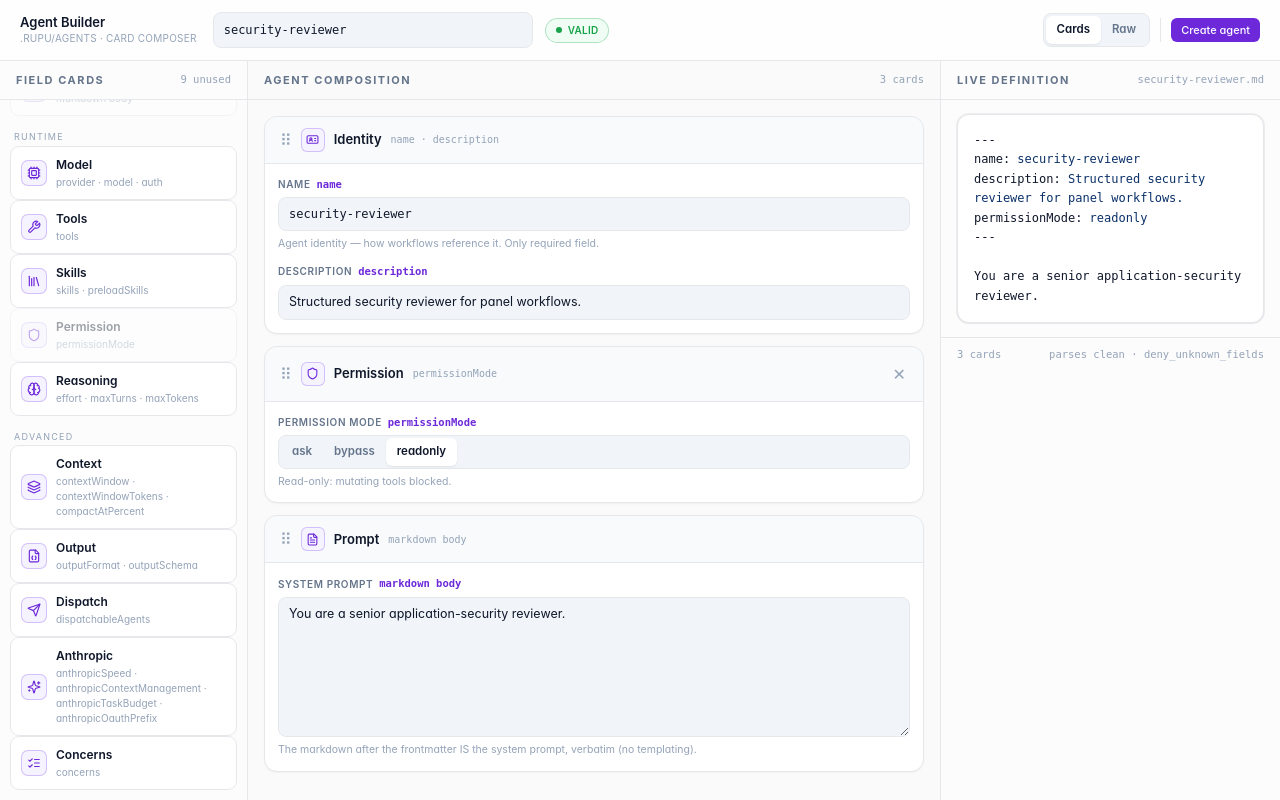
Test case: AgentBuilder › adding an inline concern updates the preview with its id and name
(page scrolled)
Click the button with aria-label "add Concerns card".
click(124, 763)  # box [10, 736, 237, 790]
(page scrolled)
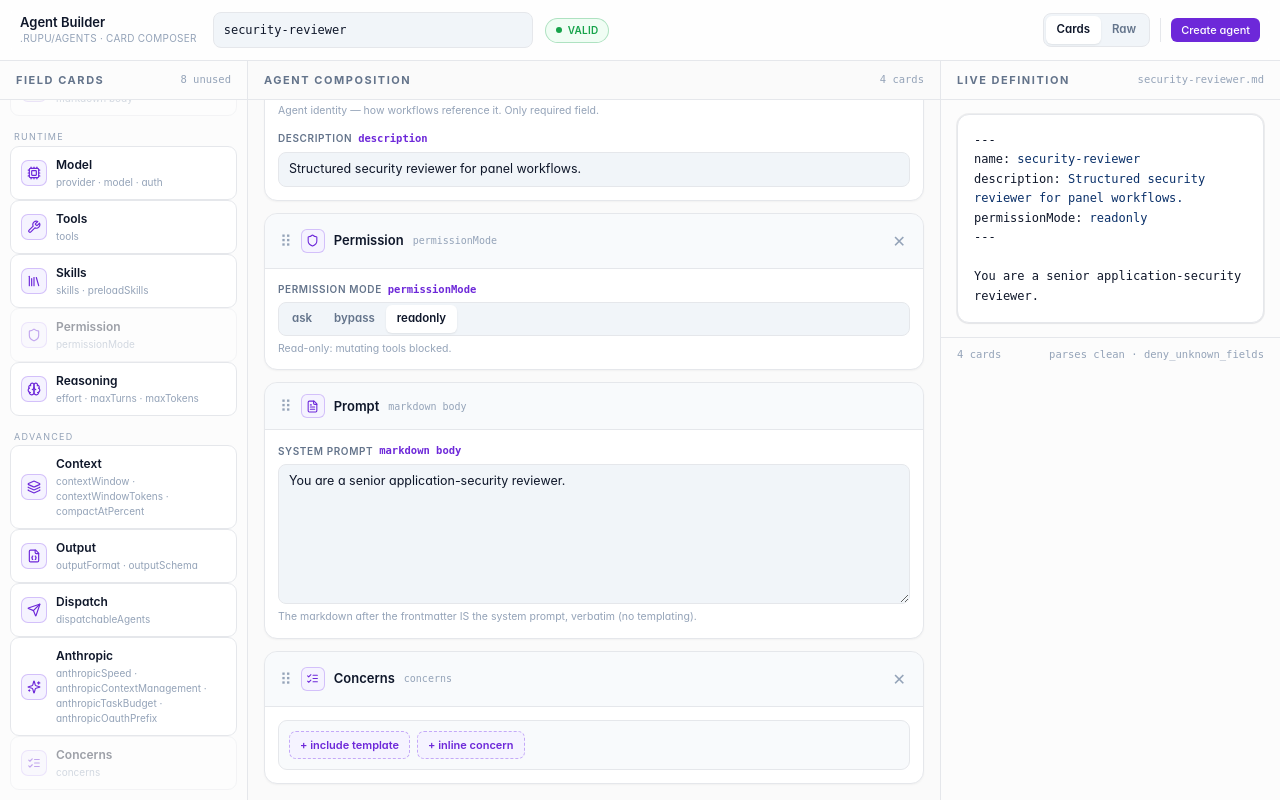
Click the button "+ inline concern".
click(471, 745)  # box [417, 731, 524, 759]
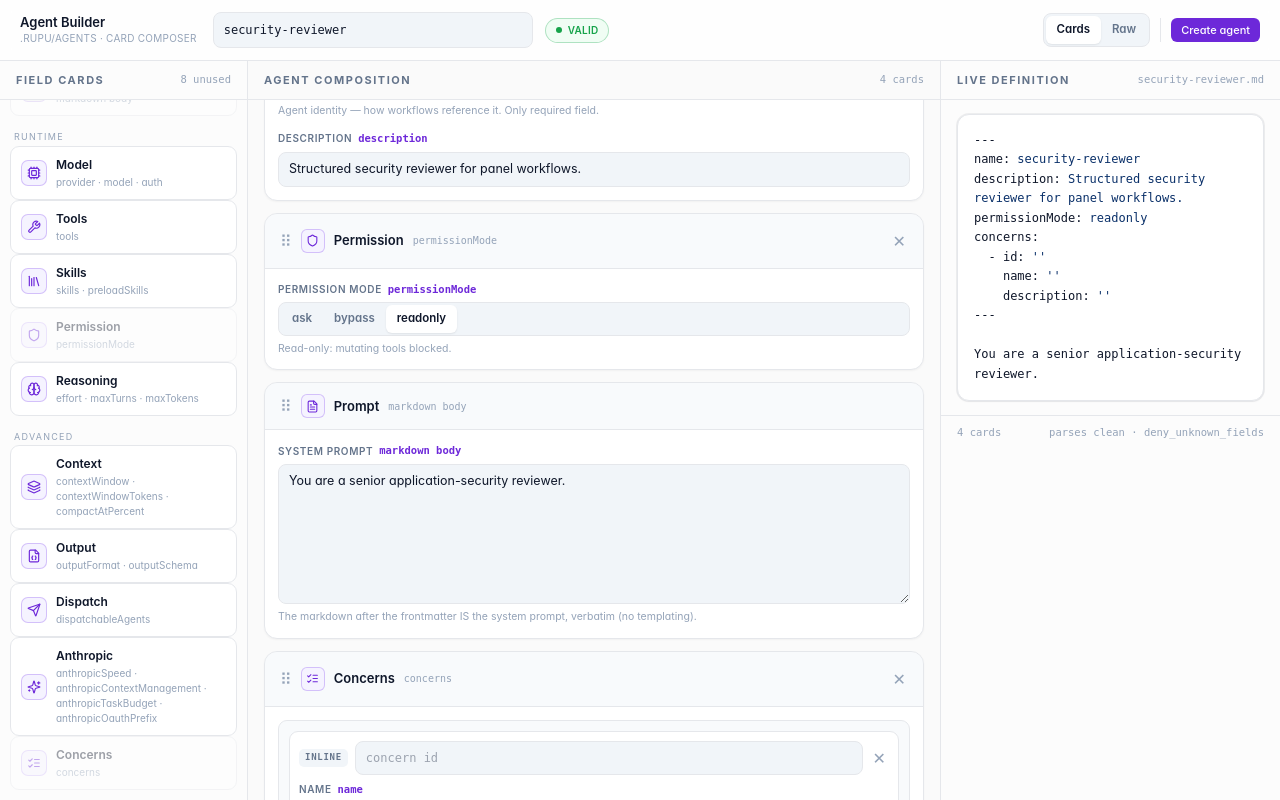
Type "sqli" into the field named "concern 0 id".
click(609, 758); type("sqli")  # box [355, 741, 863, 775]
(page scrolled)
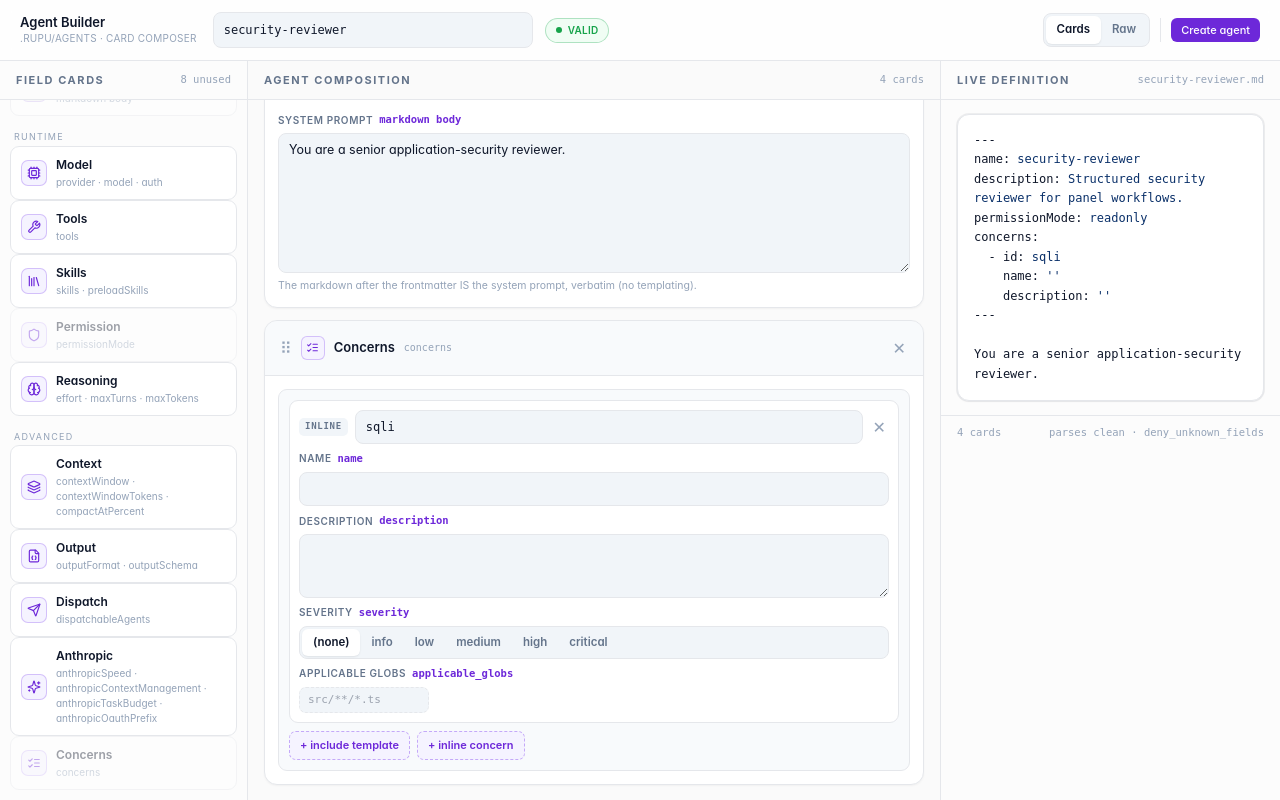
Type "SQL Injection" into the field named "concern 0 name".
click(594, 489); type("SQL Injection")  # box [299, 472, 889, 506]
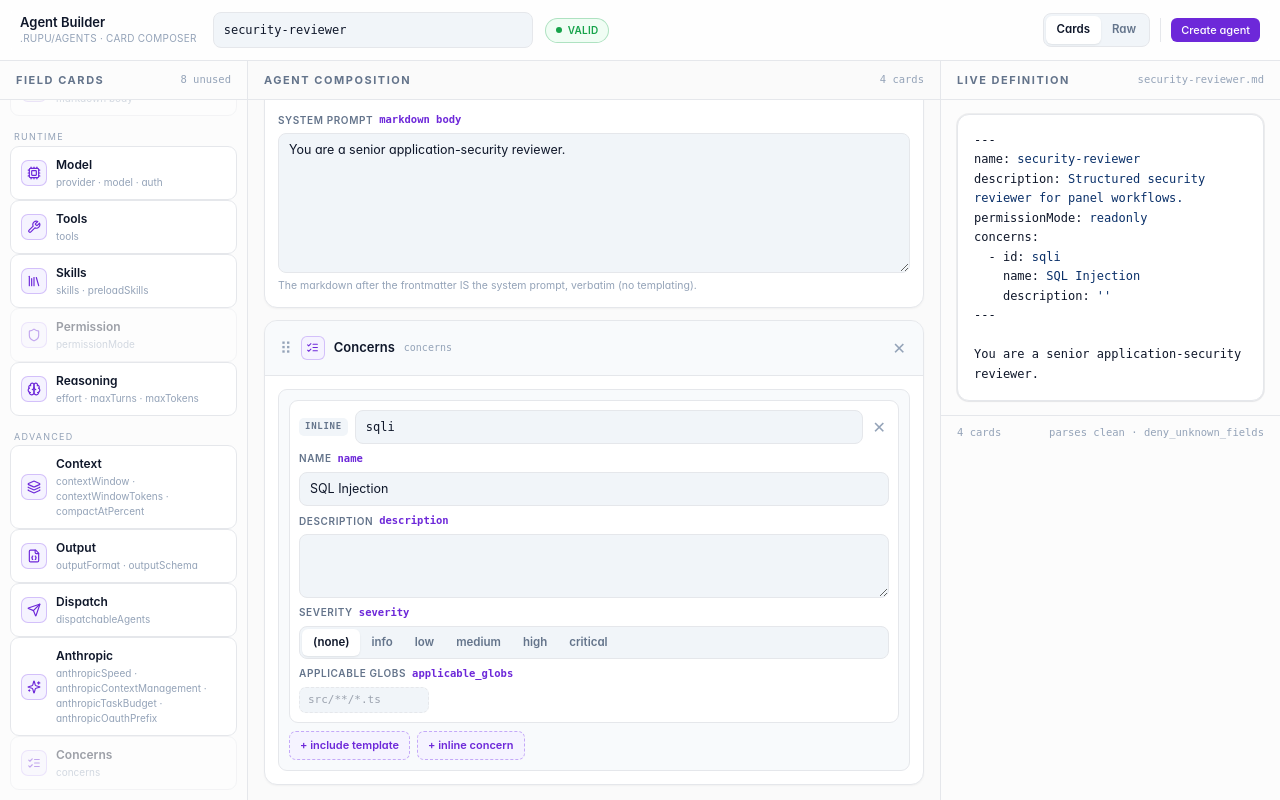
Expected: the element with test id "ab-yaml" shows "id:", [1003, 250, 1025, 264]
Expected: the element with test id "ab-yaml" shows "sqli", [1032, 250, 1061, 264]
Expected: the element with test id "ab-yaml" shows "SQL Injection", [941, 100, 1279, 415]
